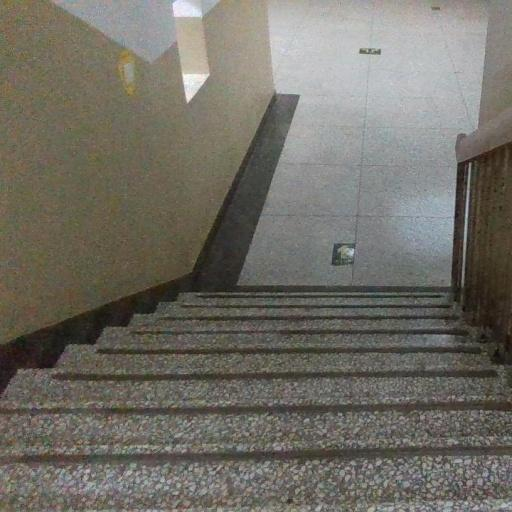stairs: (0, 293, 511, 511)
